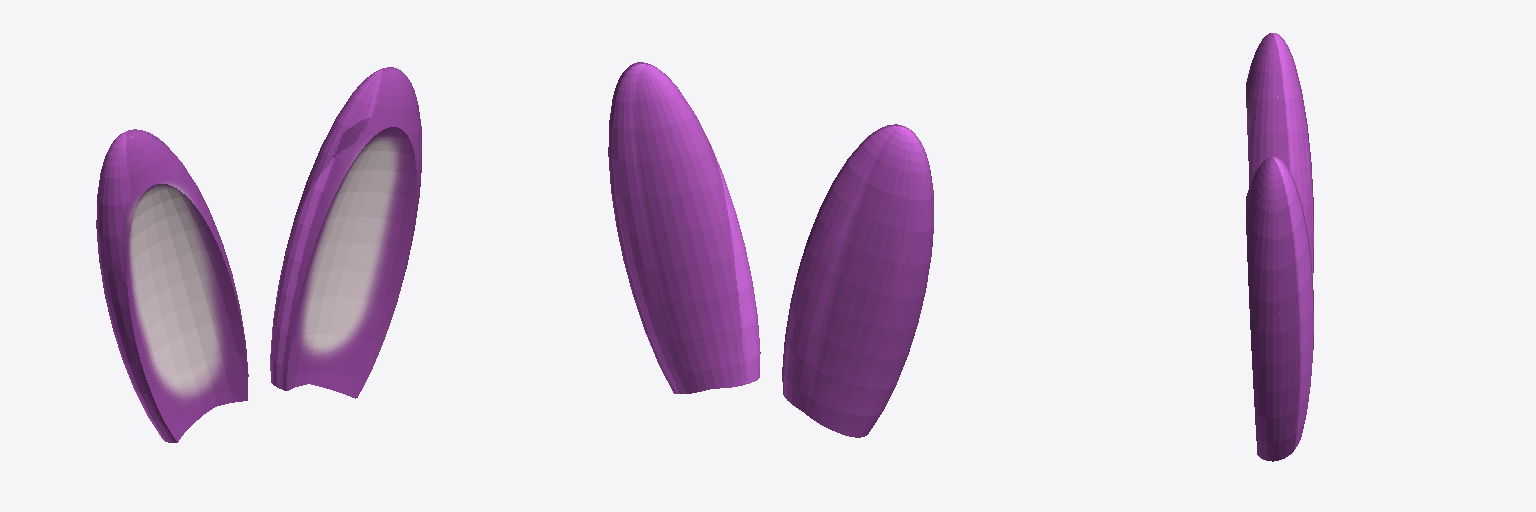
3 renders of one model, left to right at view 1: azimuth 30°, elevation 25°; view 2: azimuth 150°, elevation 25°; view 3: azimuth 270°, elevation 25°, orthographic.
Parts seen in each view (by area): view 1: default; view 2: default; view 3: default.
Part boxes in pixels (bbox=[...]): default: bbox=[96, 67, 421, 442]; default: bbox=[608, 62, 933, 437]; default: bbox=[1246, 33, 1313, 461].
Size of the model in its own units: 0.2603 by 0.2471 by 0.0483.
Materials: 1 (1 with a texture image).